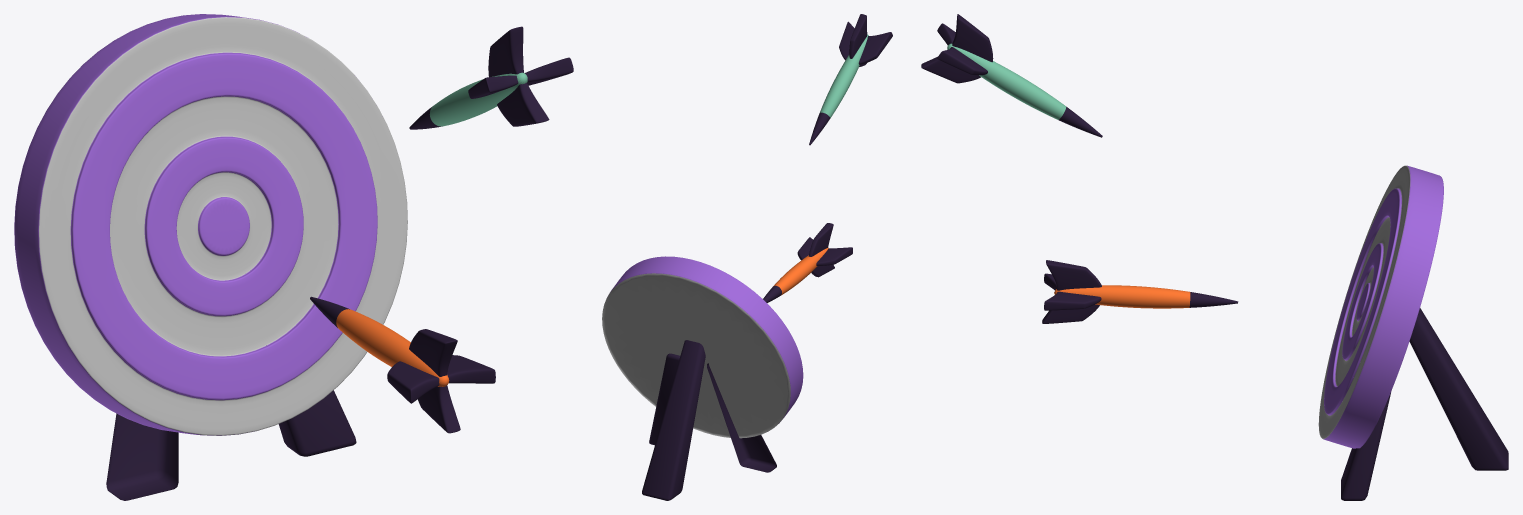
File: target-3d-animated-icon-328450087035.glb
3 views of the same model, side by side, from view 1: azimuth 30°, elevation 25°; view 2: azimuth 150°, elevation 25°; view 3: azimuth 270°, elevation 25° (orthographic). The views are drawn at different scales.
Visible parts, largest first — view 1: Target Board, Arrow 2, Arrow 1; view 2: Target Board, Arrow 1, Arrow 2; view 3: Target Board, Arrow 2, Arrow 1.
Part boxes in pixels (box(x1,y1,x2,y2)): Target Board: box(14, 14, 407, 500); Arrow 2: box(310, 296, 495, 433); Arrow 1: box(409, 26, 573, 129); Target Board: box(602, 256, 803, 500); Arrow 1: box(809, 14, 892, 145); Arrow 2: box(763, 223, 852, 302); Target Board: box(1318, 165, 1508, 500); Arrow 2: box(1042, 260, 1238, 323); Arrow 1: box(921, 14, 1102, 137).
Bounding box in the file's own units: 1.57 × 2.69 × 3.21.
